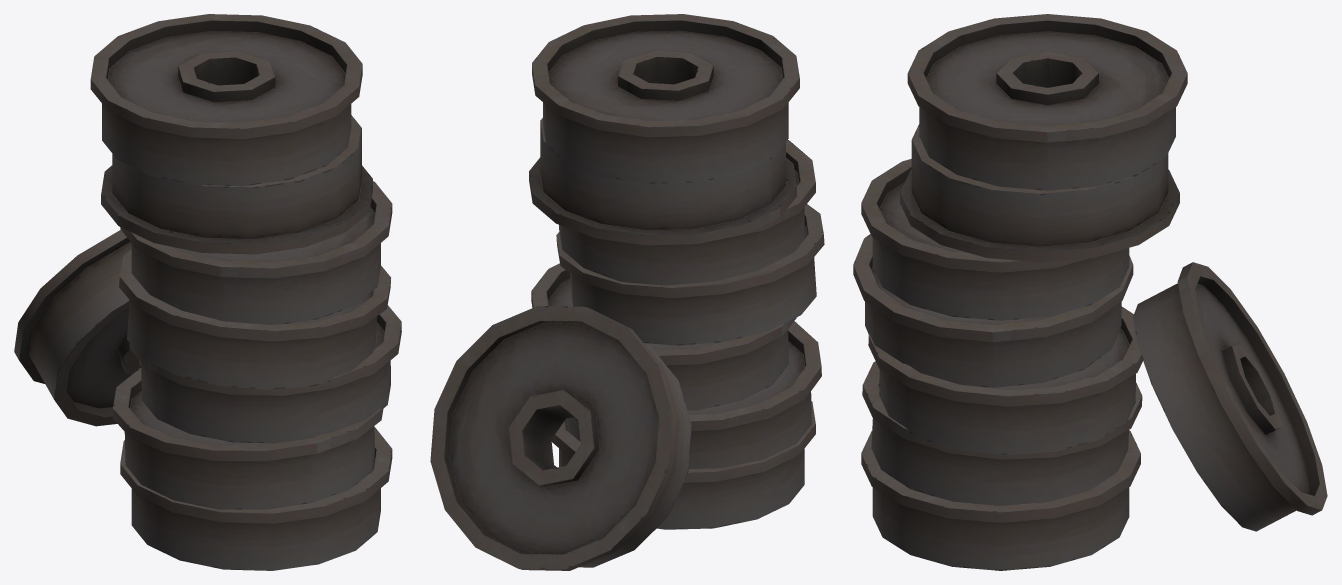
3 renders of one model, left to right at view 1: azimuth 30°, elevation 25°; view 2: azimuth 150°, elevation 25°; view 3: azimuth 270°, elevation 25°, orthographic. The views are drawn at different scales.
Visible parts, largest first — view 1: body0_model0_lod0_mesh0; view 2: body0_model0_lod0_mesh0; view 3: body0_model0_lod0_mesh0.
Part boxes in pixels (x1,y1,x2,y2): body0_model0_lod0_mesh0: (14, 14, 401, 570); body0_model0_lod0_mesh0: (430, 14, 824, 570); body0_model0_lod0_mesh0: (853, 14, 1327, 570).
Size of the model in its own units: 39 by 62.5 by 61.
Materials: 1 (1 with a texture image).
